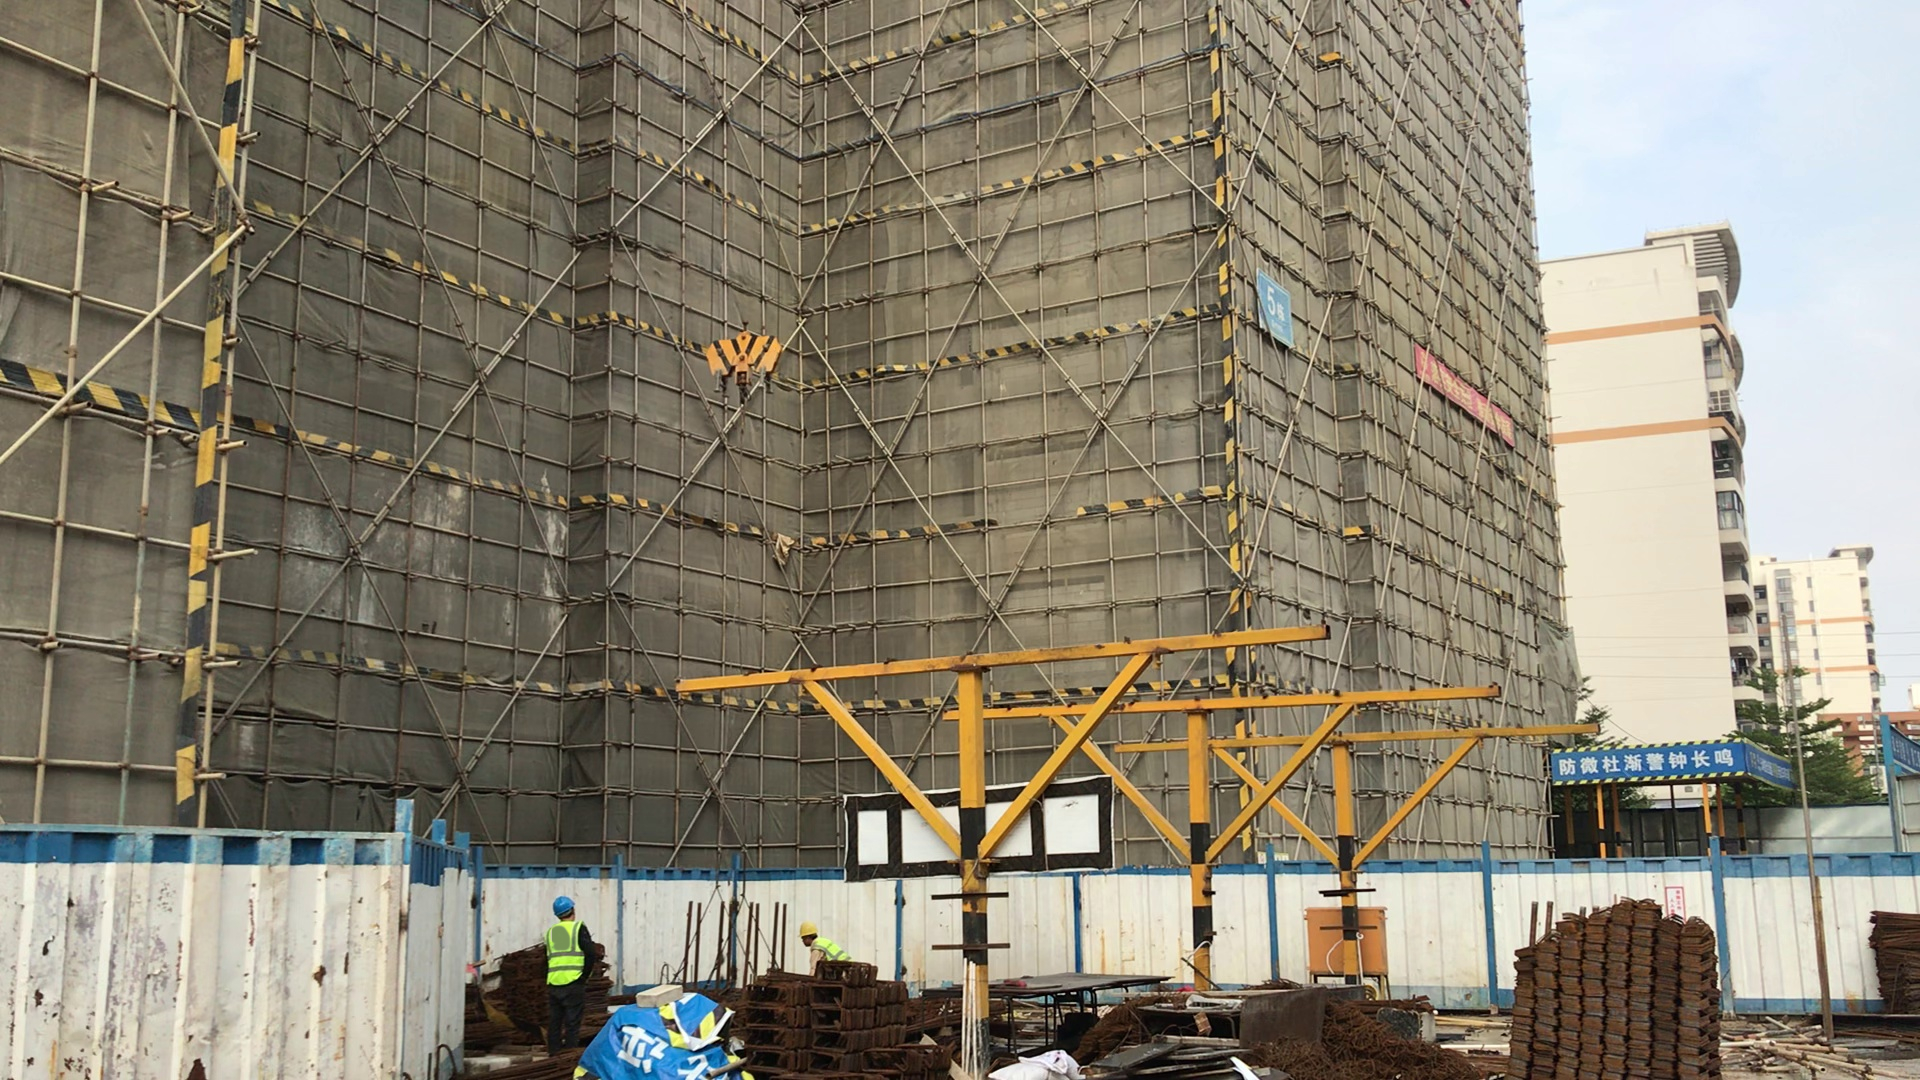helmet: (794, 921, 825, 942), (551, 894, 577, 915)
hook: (701, 320, 804, 401)
person: (543, 888, 601, 1065), (794, 917, 859, 973)
slogan: (1407, 334, 1545, 472), (1553, 734, 1730, 785)
vest: (545, 922, 589, 992), (810, 939, 848, 964)
